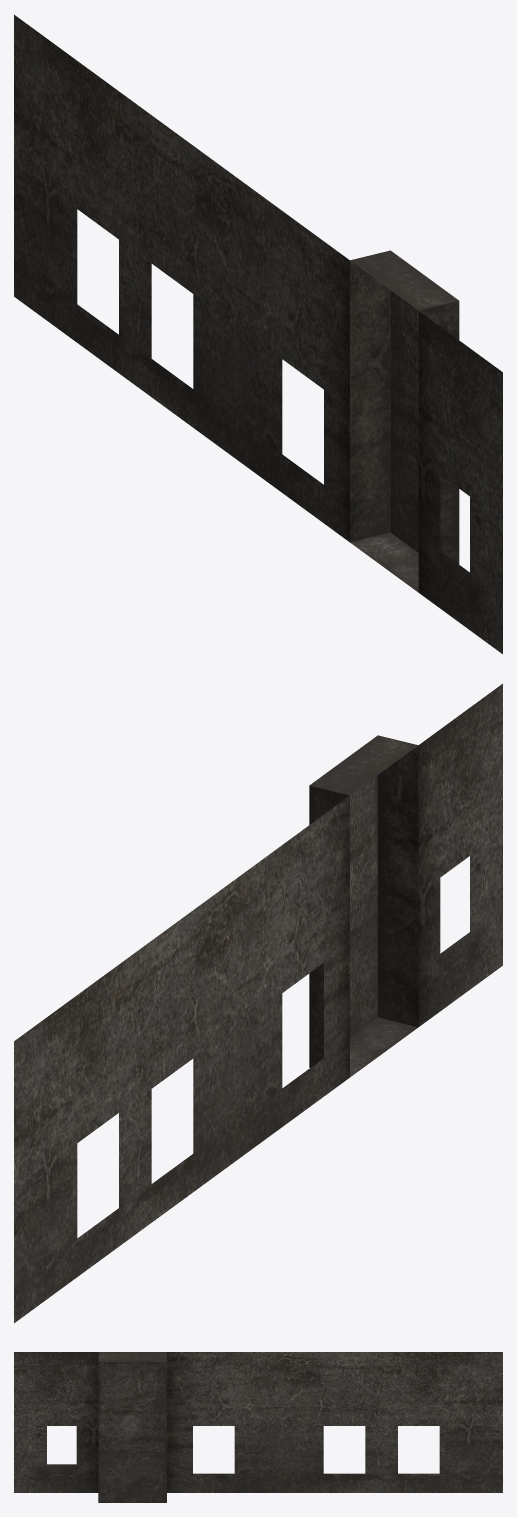
Rendered from Wall_04.FBX.
3 views of the same model, one above another, from view 1: azimuth 30°, elevation 25°; view 2: azimuth 150°, elevation 25°; view 3: azimuth 270°, elevation 25° (orthographic). The views are drawn at different scales.
Parts seen in each view (by area): view 1: Wall_04; view 2: Wall_04; view 3: Wall_04.
Part boxes in pixels (x1=…): Wall_04: x1=14, y1=14, x2=502, y2=654; Wall_04: x1=14, y1=683, x2=502, y2=1323; Wall_04: x1=14, y1=1352, x2=502, y2=1502.
Size of the model in its own units: 77.13 by 511 by 1606.
